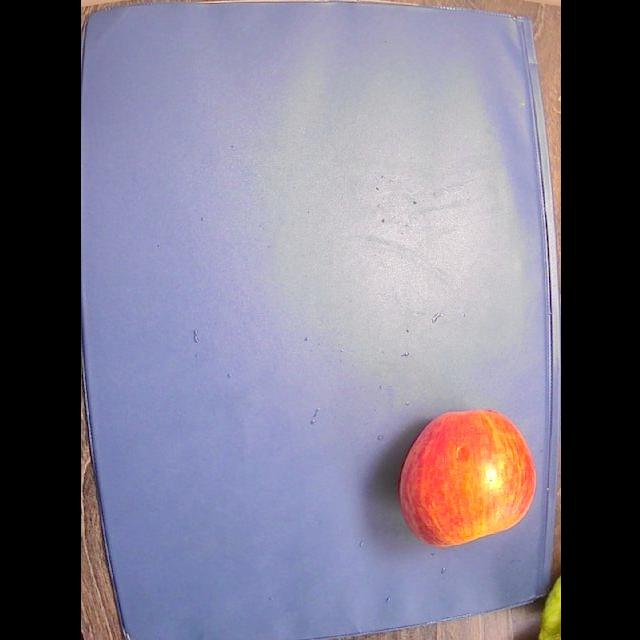manzana: (399, 409, 535, 547)
